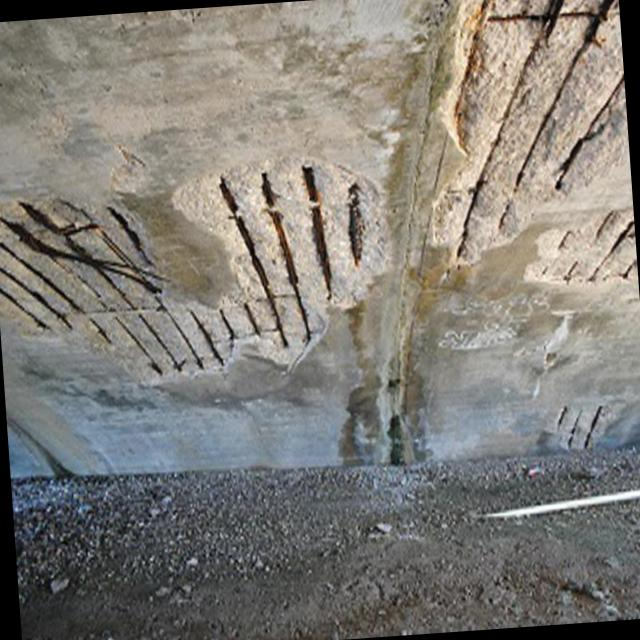spalling: (380, 0, 630, 468), (0, 152, 393, 386), (522, 206, 638, 282)
